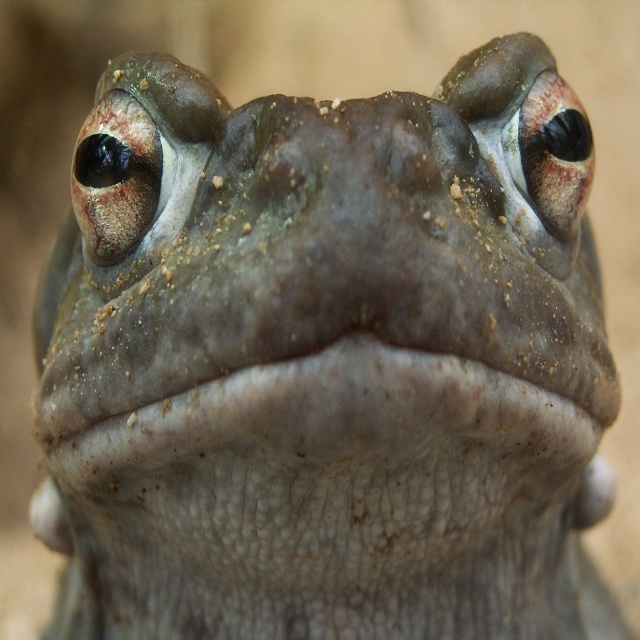Frog: (27, 30, 639, 639)
